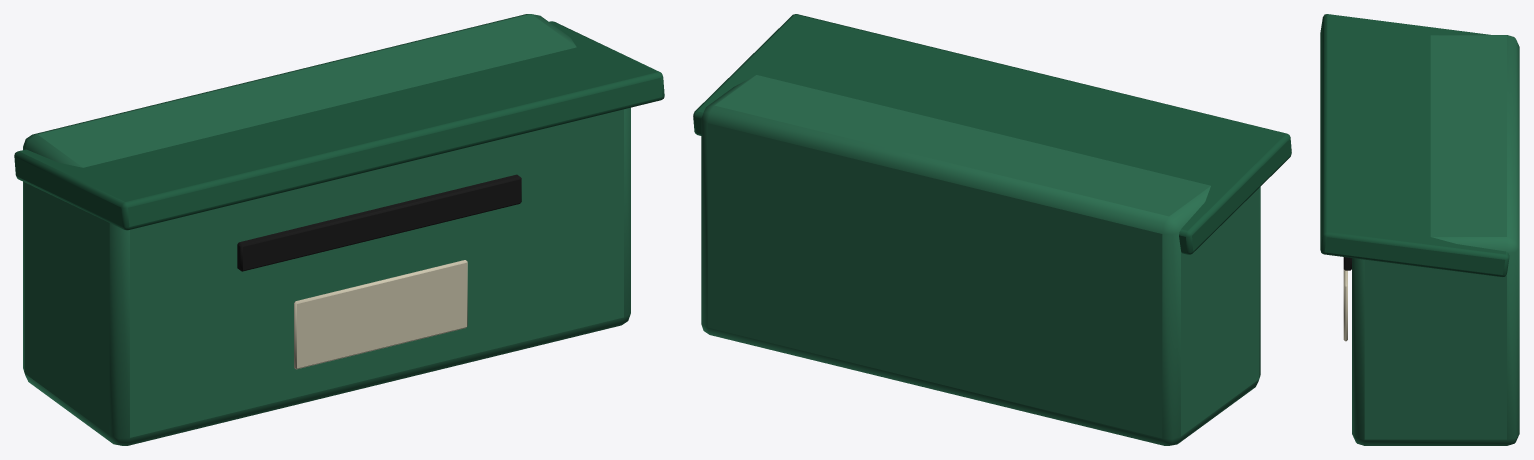
File: HopThu_Cong.glb
3 renders of one model, left to right at view 1: azimuth 30°, elevation 25°; view 2: azimuth 150°, elevation 25°; view 3: azimuth 270°, elevation 25°, orthographic. The views are drawn at different scales.
Visible parts, largest first — view 1: HopThu_Cong; view 2: HopThu_Cong; view 3: HopThu_Cong.
Part boxes in pixels (x1,y1,x2,y2): HopThu_Cong: (14, 14, 664, 445); HopThu_Cong: (693, 14, 1291, 445); HopThu_Cong: (1320, 14, 1519, 445).
Bounding box in the file's own units: 0.25 × 0.1169 × 0.0951.
